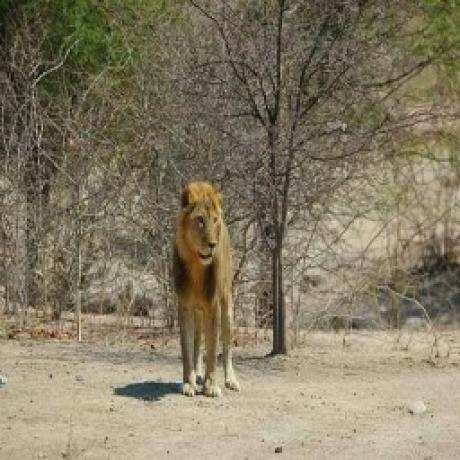Lion: (169, 174, 241, 401)
